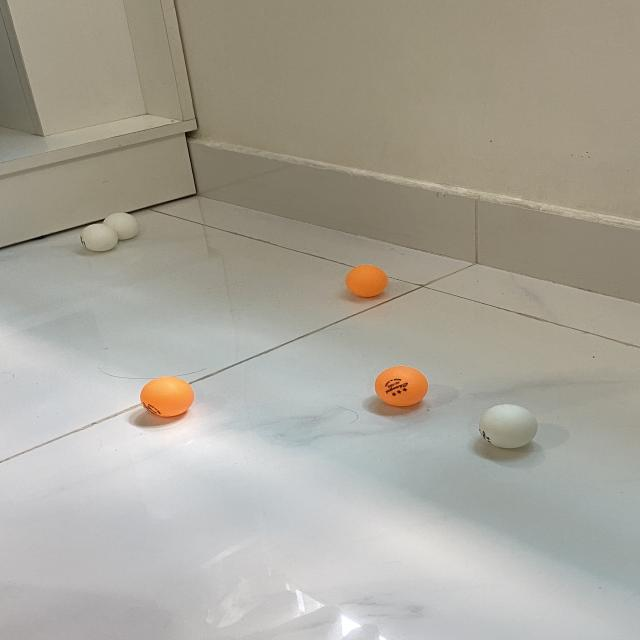ping-pong-ball: (479, 405, 539, 448), (141, 376, 196, 418), (376, 364, 428, 408), (346, 264, 390, 298), (79, 224, 120, 251), (104, 213, 140, 241)
